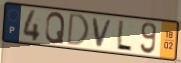4: (22, 9, 42, 42)
9: (140, 22, 158, 56)
D: (66, 12, 91, 47)
L: (114, 19, 133, 53)
Q: (44, 11, 66, 45)
V: (91, 17, 115, 49)
